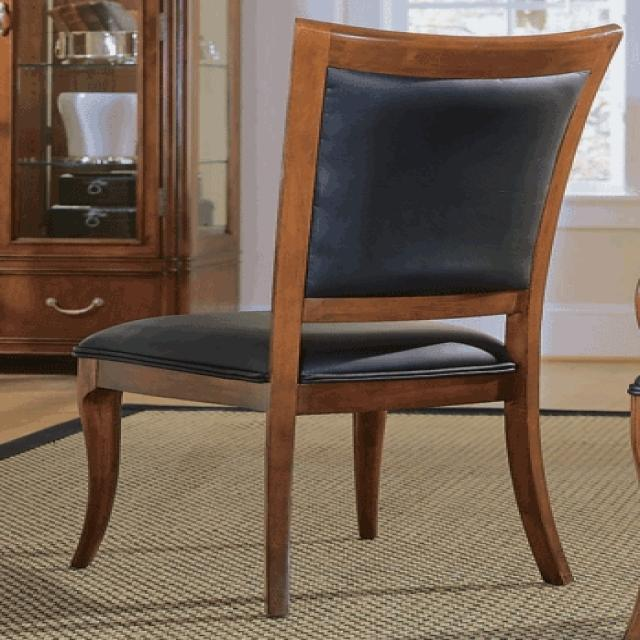chair: (72, 14, 624, 620)
